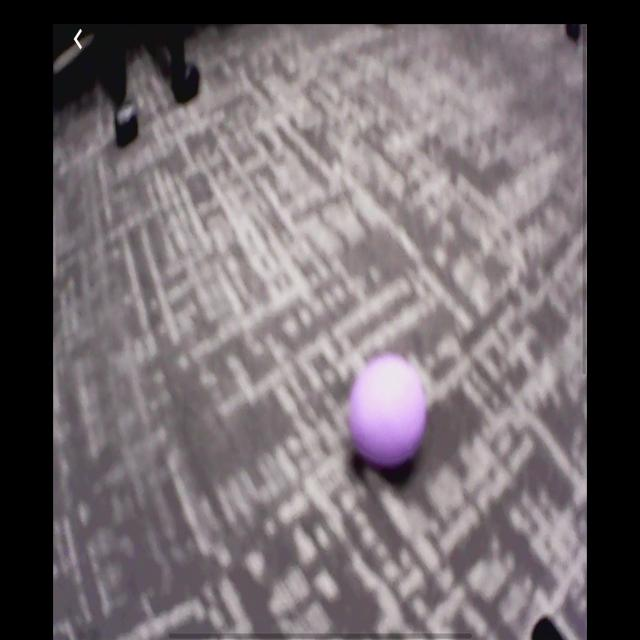ball: (348, 352, 426, 467)
